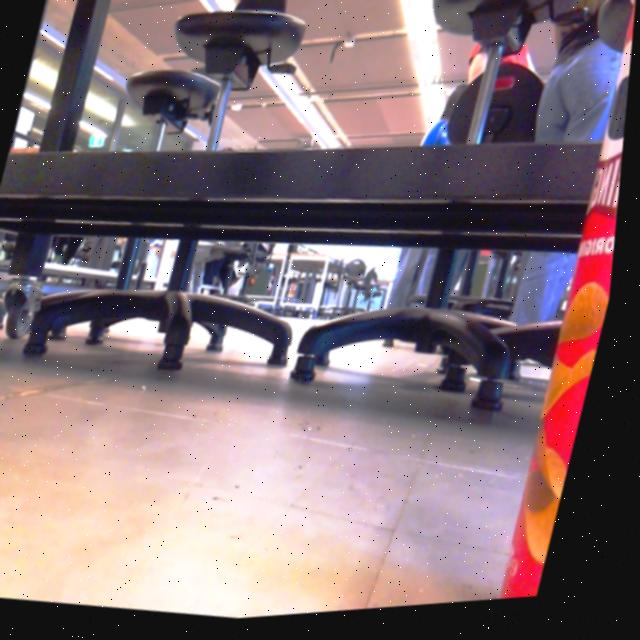redpringles: (449, 2, 637, 611)
